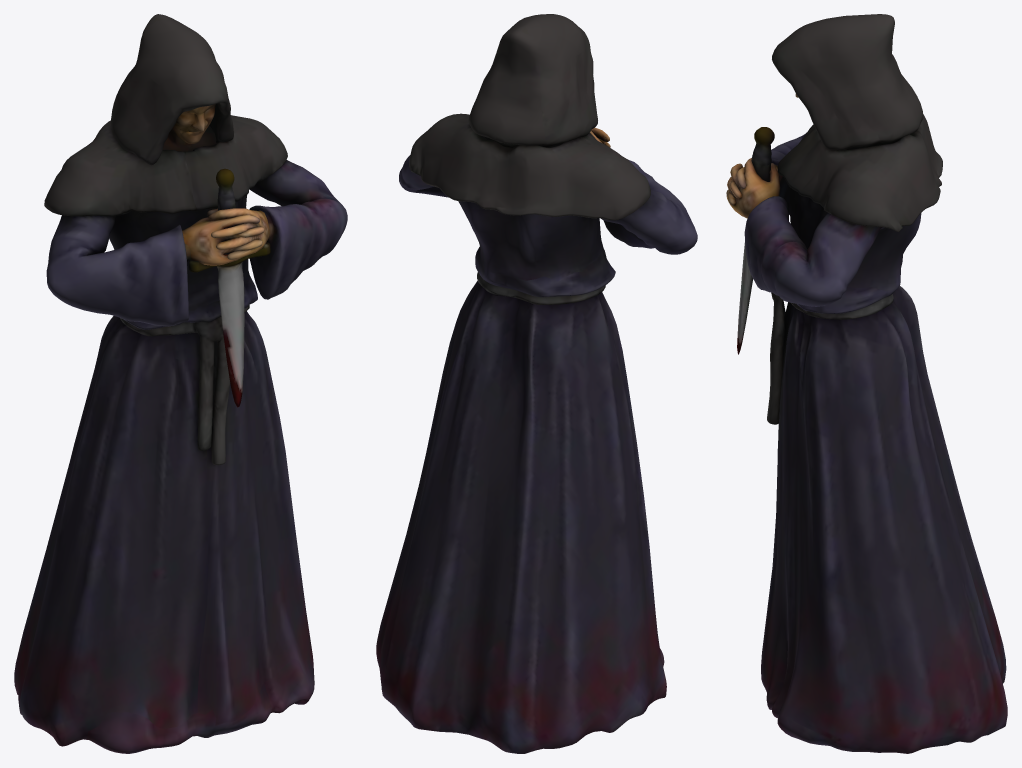
Rendered from MZ4250 - Cultist Male.glb.
The picture shows the model from 3 angles, left to right: view 1: azimuth 30°, elevation 25°; view 2: azimuth 150°, elevation 25°; view 3: azimuth 270°, elevation 25°; orthographic projection. The views are drawn at different scales.
Parts seen in each view (by area): view 1: Cultist Male.001; view 2: Cultist Male.001; view 3: Cultist Male.001.
Boxes of the visible parts, left/top/right/bottom form: Cultist Male.001: left=14, top=14, right=347, bottom=753; Cultist Male.001: left=376, top=14, right=697, bottom=753; Cultist Male.001: left=726, top=14, right=1007, bottom=753.
Size of the model in its own units: 16.56 by 36.93 by 13.57.
1 material, 1 textured.
